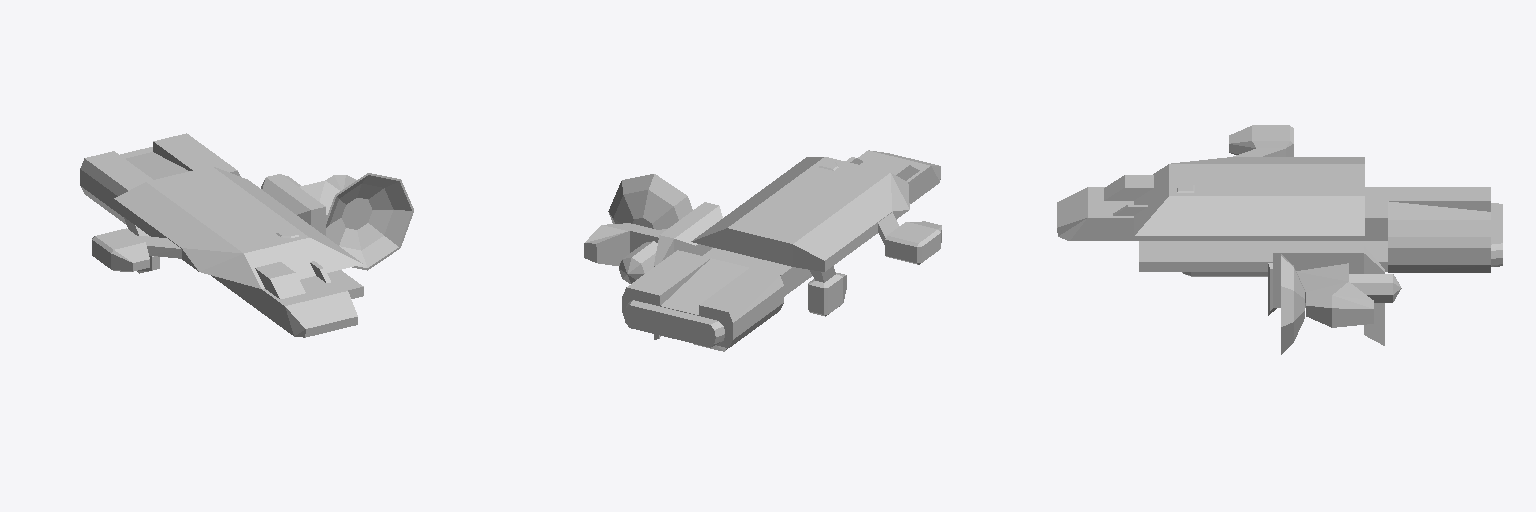
The model's file is cap303_static.obj.
3 views of the same model, side by side, from view 1: azimuth 30°, elevation 25°; view 2: azimuth 150°, elevation 25°; view 3: azimuth 270°, elevation 25° (orthographic).
Visible parts, largest first — view 1: frm-cube42_1, frm-sphere7_1, frm-cube6_3_1, frm-cube2_1_3_1_1, frm-cube41_1_1, frm-cube15_1_1, frm-cube44_1, frm-cube33_1; view 2: frm-cube42_1, frm-cube6_3_1, frm-sphere7_1, frm-cyl15_1, frm-cube2_1_3_1_1, frm-cube41_1_1, frm-cube33_1, frm-cube15_1_1, frm-cube41_3_1, frm-cyl1_3_1; view 3: frm-cube42_1, frm-cube6_3_1, frm-cube2_1_3_1_1, frm-cube43_1, frm-cube33_1, frm-cube15_1_1, frm-cube41_1_1, frm-sphere7_1, frm-cyl1_3_1, frm-cube44_1, frm-cyl15_1.
Part boxes in pixels (bbox=[...]): frm-cube42_1: bbox=[114, 166, 362, 288]; frm-sphere7_1: bbox=[326, 173, 413, 270]; frm-cube6_3_1: bbox=[80, 133, 240, 223]; frm-cube2_1_3_1_1: bbox=[211, 275, 357, 337]; frm-cube41_1_1: bbox=[92, 228, 181, 271]; frm-cube15_1_1: bbox=[261, 174, 325, 235]; frm-cube44_1: bbox=[255, 262, 305, 298]; frm-cube33_1: bbox=[300, 175, 356, 217]; frm-cube42_1: bbox=[691, 157, 909, 271]; frm-cube6_3_1: bbox=[622, 250, 783, 347]; frm-sphere7_1: bbox=[608, 174, 692, 229]; frm-cyl15_1: bbox=[624, 300, 724, 347]; frm-cube2_1_3_1_1: bbox=[719, 150, 940, 296]; frm-cube41_1_1: bbox=[878, 212, 941, 264]; frm-cube33_1: bbox=[584, 223, 666, 265]; frm-cube15_1_1: bbox=[654, 202, 722, 339]; frm-cube41_3_1: bbox=[808, 266, 846, 316]; frm-cyl1_3_1: bbox=[619, 241, 657, 283]; frm-cube42_1: bbox=[1134, 157, 1364, 235]; frm-cube6_3_1: bbox=[1388, 187, 1490, 272]; frm-cube2_1_3_1_1: bbox=[1057, 187, 1387, 240]; frm-cube43_1: bbox=[1139, 241, 1387, 271]; frm-cube33_1: bbox=[1296, 263, 1373, 327]; frm-cube15_1_1: bbox=[1273, 246, 1384, 345]; frm-cube41_1_1: bbox=[1229, 125, 1293, 156]; frm-sphere7_1: bbox=[1281, 254, 1304, 354]; frm-cyl1_3_1: bbox=[1349, 274, 1401, 302]; frm-cube44_1: bbox=[1104, 175, 1153, 200]; frm-cyl15_1: bbox=[1491, 203, 1502, 266].
Bounding box in the file's own units: 15.18 × 5.53 × 18.43.